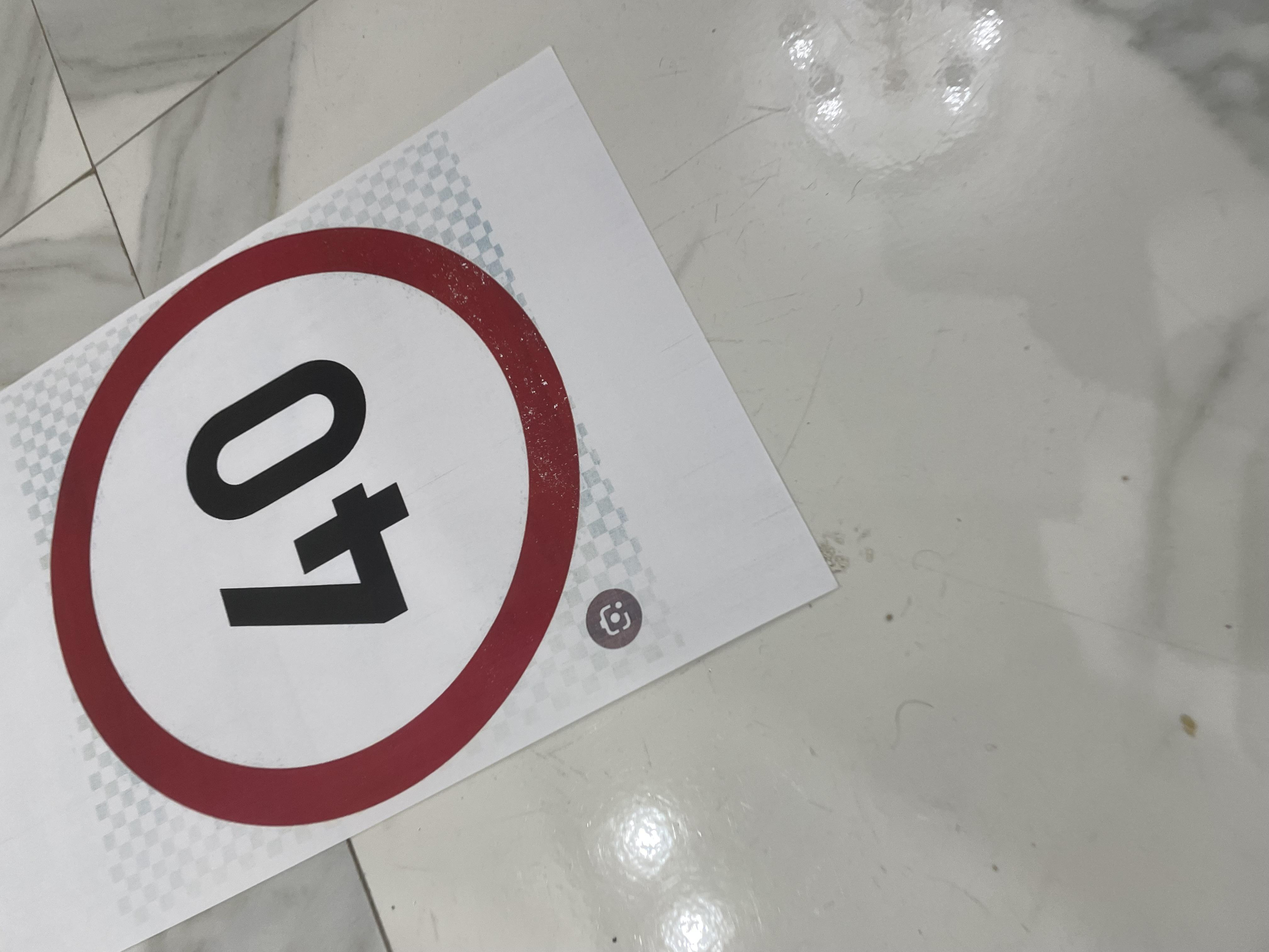40-Speed: (144, 22, 1039, 443)
